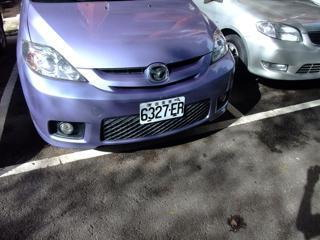plate: (138, 94, 187, 123)
